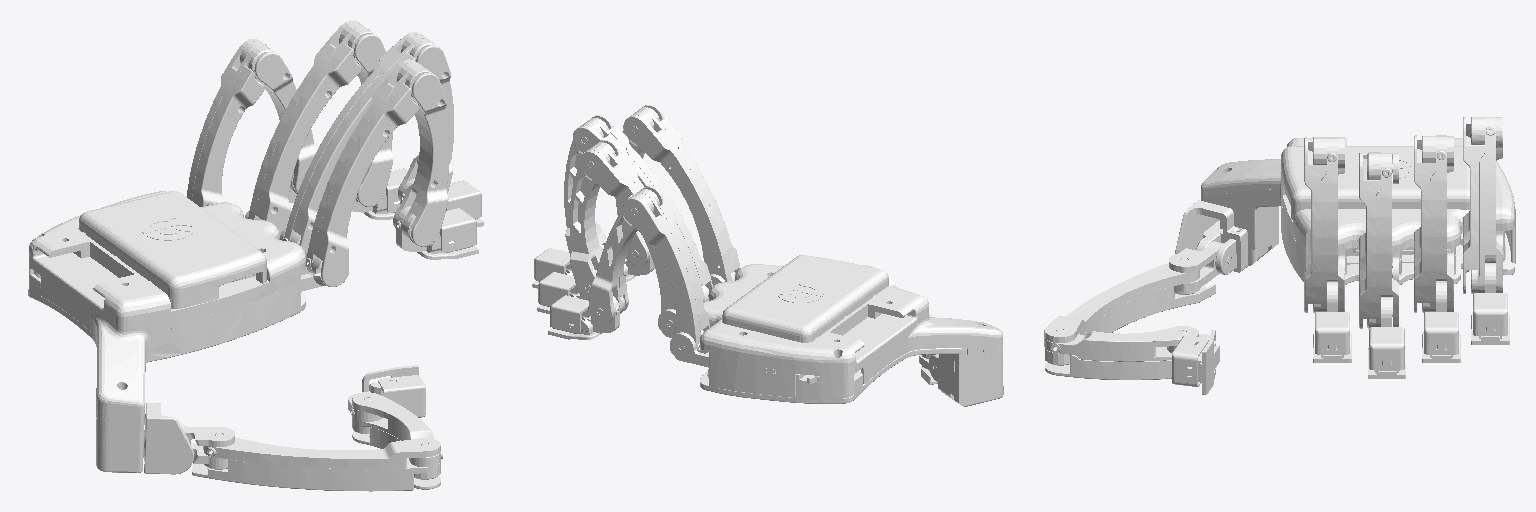
--- Render facts (derived) ---
The picture shows the robot from 3 angles, left to right: view 1: azimuth 30°, elevation 25°; view 2: azimuth 150°, elevation 25°; view 3: azimuth 270°, elevation 25°; orthographic projection.
Robot: DexGlove_L_v3 — 22 links, 21 joints (21 revolute); root link base_link; default pose: every joint at zero.
Links seen in each view (by area): view 1: base_link, glove_link_l_1_3, glove_link_l_2_2, glove_link_l_4_2, glove_link_l_2_3, glove_link_l_5_2, glove_link_l_3_2, glove_link_l_1_4, glove_link_l_1_1, glove_link_l_4_3, glove_link_l_5_3, glove_link_l_2_4 (+5 smaller); view 2: base_link, glove_link_l_2_2, glove_link_l_5_2, glove_link_l_4_3, glove_link_l_5_3, glove_link_l_4_2, glove_link_l_3_2, glove_link_l_5_4, glove_link_l_3_3, glove_link_l_4_4, glove_link_l_2_3, glove_link_l_3_4 (+1 smaller); view 3: base_link, glove_link_l_1_3, glove_link_l_1_4, glove_link_l_2_3, glove_link_l_4_3, glove_link_l_3_3, glove_link_l_5_3, glove_link_l_1_1, glove_link_l_1_5, glove_link_l_5_4, glove_link_l_3_4, glove_link_l_4_4 (+6 smaller).
Link boxes in pixels (x1,y1,x2,y2): base_link: (28, 191, 305, 472); glove_link_l_1_3: (192, 437, 440, 491); glove_link_l_2_2: (306, 59, 432, 286); glove_link_l_4_2: (248, 20, 374, 234); glove_link_l_2_3: (393, 62, 449, 246); glove_link_l_5_2: (187, 39, 274, 206); glove_link_l_3_2: (283, 32, 435, 251); glove_link_l_1_4: (352, 393, 442, 489); glove_link_l_1_1: (144, 403, 193, 474); glove_link_l_4_3: (339, 23, 392, 206); glove_link_l_5_3: (240, 41, 317, 193); glove_link_l_2_4: (396, 206, 478, 259); base_link: (700, 255, 1003, 406); glove_link_l_2_2: (623, 107, 739, 281); glove_link_l_5_2: (623, 189, 709, 351); glove_link_l_4_3: (569, 140, 618, 299); glove_link_l_5_3: (588, 186, 662, 323); glove_link_l_4_2: (579, 142, 675, 312); glove_link_l_3_2: (573, 118, 712, 301); glove_link_l_5_4: (548, 295, 619, 339); glove_link_l_3_3: (564, 115, 611, 256); glove_link_l_4_4: (537, 270, 596, 313); glove_link_l_2_3: (615, 105, 663, 265); glove_link_l_3_4: (532, 248, 573, 288); base_link: (1201, 138, 1515, 284); glove_link_l_1_3: (1044, 263, 1215, 365); glove_link_l_1_4: (1044, 326, 1198, 379); glove_link_l_2_3: (1304, 137, 1344, 312); glove_link_l_4_3: (1414, 135, 1453, 312); glove_link_l_3_3: (1359, 153, 1398, 328); glove_link_l_5_3: (1463, 117, 1502, 293); glove_link_l_1_1: (1175, 200, 1247, 274); glove_link_l_1_5: (1167, 330, 1219, 394); glove_link_l_5_4: (1471, 263, 1509, 344); glove_link_l_3_4: (1368, 297, 1405, 378); glove_link_l_4_4: (1422, 281, 1460, 362).
Size in the robot's own frame: 0.2157 by 0.1922 by 0.1312 metres.
Meshes: 22 distinct files referenced, 22 mesh visuals loaded (22 binary STL).

URDF robot description (DexGlove_L_v3):
<?xml version="1.0" encoding="utf-8"?>
<!-- This URDF was automatically created by SolidWorks to URDF Exporter! Originally created by Stephen Brawner ([email redacted]) 
     Commit Version: 1.6.0-4-g7f85cfe  Build Version: 1.6.7995.38578
     For more information, please see http://wiki.ros.org/sw_urdf_exporter -->
<robot
  name="DexGlove_L_v3">
  <link
    name="base_link">
    <inertial>
      <origin
        xyz="0.0237620477978091 -0.00951376753341219 -0.0171474899831816"
        rpy="0 0 0" />
      <mass
        value="0.0800024299347004" />
      <inertia
        ixx="8.60952255620185E-05"
        ixy="-2.71602100565745E-05"
        ixz="-8.77823585205834E-06"
        iyy="7.23334491491057E-05"
        iyz="-7.90469210781503E-06"
        izz="0.000150604089423066" />
    </inertial>
    <visual>
      <origin
        xyz="0 0 0"
        rpy="0 0 0" />
      <geometry>
        <mesh
          filename="package://DexGlove_L_v3/meshes/base_link.STL" />
      </geometry>
      <material
        name="">
        <color
          rgba="1 1 1 1" />
      </material>
    </visual>
    <collision>
      <origin
        xyz="0 0 0"
        rpy="0 0 0" />
      <geometry>
        <mesh
          filename="package://DexGlove_L_v3/meshes/base_link.STL" />
      </geometry>
    </collision>
  </link>
  <link
    name="glove_link_l_1_1">
    <inertial>
      <origin
        xyz="0.00215560142754495 -0.00338440417553472 -0.0131214276652581"
        rpy="0 0 0" />
      <mass
        value="0.00385817376294998" />
      <inertia
        ixx="2.65474228805464E-07"
        ixy="5.80436030551347E-09"
        ixz="-6.45383259850794E-09"
        iyy="2.67286944047061E-07"
        iyz="-3.27370896235781E-08"
        izz="2.83530805186649E-07" />
    </inertial>
    <visual>
      <origin
        xyz="0 0 0"
        rpy="0 0 0" />
      <geometry>
        <mesh
          filename="package://DexGlove_L_v3/meshes/glove_link_l_1_1.STL" />
      </geometry>
      <material
        name="">
        <color
          rgba="1 1 1 1" />
      </material>
    </visual>
    <collision>
      <origin
        xyz="0 0 0"
        rpy="0 0 0" />
      <geometry>
        <mesh
          filename="package://DexGlove_L_v3/meshes/glove_link_l_1_1.STL" />
      </geometry>
    </collision>
  </link>
  <joint
    name="glove_joint_l_1_1"
    type="revolute">
    <origin
      xyz="-0.020715 -0.061876 -0.050557"
      rpy="1.0492 -1.5085 -1.5708" />
    <parent
      link="base_link" />
    <child
      link="glove_link_l_1_1" />
    <axis
      xyz="0 0 -1" />
    <limit
      lower="-3.1416"
      upper="3.1416"
      effort="0"
      velocity="0" />
  </joint>
  <link
    name="glove_link_l_1_2">
    <inertial>
      <origin
        xyz="-0.000703204608406425 0.0127309615060602 -0.00288011874599131"
        rpy="0 0 0" />
      <mass
        value="0.00199934411755508" />
      <inertia
        ixx="1.41414956928775E-07"
        ixy="5.06018801001401E-09"
        ixz="-1.28468708917249E-09"
        iyy="5.78189712533849E-08"
        iyz="2.26574146128709E-08"
        izz="1.4664936590257E-07" />
    </inertial>
    <visual>
      <origin
        xyz="0 0 0"
        rpy="0 0 0" />
      <geometry>
        <mesh
          filename="package://DexGlove_L_v3/meshes/glove_link_l_1_2.STL" />
      </geometry>
      <material
        name="">
        <color
          rgba="1 1 1 1" />
      </material>
    </visual>
    <collision>
      <origin
        xyz="0 0 0"
        rpy="0 0 0" />
      <geometry>
        <mesh
          filename="package://DexGlove_L_v3/meshes/glove_link_l_1_2.STL" />
      </geometry>
    </collision>
  </link>
  <joint
    name="glove_joint_l_1_2"
    type="revolute">
    <origin
      xyz="0 0 -0.01925"
      rpy="-1.5708 -0.031013 0.054007" />
    <parent
      link="glove_link_l_1_1" />
    <child
      link="glove_link_l_1_2" />
    <axis
      xyz="0 0 1" />
    <limit
      lower="-3.1416"
      upper="3.1416"
      effort="0"
      velocity="0" />
  </joint>
  <link
    name="glove_link_l_1_3">
    <inertial>
      <origin
        xyz="-0.0300563092743552 0.0332984200920534 0.00327887867259335"
        rpy="0 0 0" />
      <mass
        value="0.00757179820464933" />
      <inertia
        ixx="3.77017392153615E-06"
        ixy="2.69631166215014E-06"
        ixz="-1.55552183083546E-08"
        iyy="2.22970205318033E-06"
        iyz="6.16317027380728E-09"
        izz="5.88485076738021E-06" />
    </inertial>
    <visual>
      <origin
        xyz="0 0 0"
        rpy="0 0 0" />
      <geometry>
        <mesh
          filename="package://DexGlove_L_v3/meshes/glove_link_l_1_3.STL" />
      </geometry>
      <material
        name="">
        <color
          rgba="1 1 1 1" />
      </material>
    </visual>
    <collision>
      <origin
        xyz="0 0 0"
        rpy="0 0 0" />
      <geometry>
        <mesh
          filename="package://DexGlove_L_v3/meshes/glove_link_l_1_3.STL" />
      </geometry>
    </collision>
  </link>
  <joint
    name="glove_joint_l_1_3"
    type="revolute">
    <origin
      xyz="0 0.0185 -0.0047"
      rpy="1.5708 -1.05 -1.5708" />
    <parent
      link="glove_link_l_1_2" />
    <child
      link="glove_link_l_1_3" />
    <axis
      xyz="0 0 -1" />
    <limit
      lower="-3.1416"
      upper="3.1416"
      effort="0"
      velocity="0" />
  </joint>
  <link
    name="glove_link_l_1_4">
    <inertial>
      <origin
        xyz="0.0273027545361775 0.00433284522060241 0.00241784252720834"
        rpy="0 0 0" />
      <mass
        value="0.00546088824696822" />
      <inertia
        ixx="1.23506944678846E-07"
        ixy="-1.2417028638521E-08"
        ixz="-2.00696983147469E-08"
        iyy="1.50198060851441E-06"
        iyz="7.83194829213286E-09"
        izz="1.53449411036234E-06" />
    </inertial>
    <visual>
      <origin
        xyz="0 0 0"
        rpy="0 0 0" />
      <geometry>
        <mesh
          filename="package://DexGlove_L_v3/meshes/glove_link_l_1_4.STL" />
      </geometry>
      <material
        name="">
        <color
          rgba="1 1 1 1" />
      </material>
    </visual>
    <collision>
      <origin
        xyz="0 0 0"
        rpy="0 0 0" />
      <geometry>
        <mesh
          filename="package://DexGlove_L_v3/meshes/glove_link_l_1_4.STL" />
      </geometry>
    </collision>
  </link>
  <joint
    name="glove_joint_l_1_4"
    type="revolute">
    <origin
      xyz="-0.050645 0.068265 0"
      rpy="0 0 0" />
    <parent
      link="glove_link_l_1_3" />
    <child
      link="glove_link_l_1_4" />
    <axis
      xyz="0 0 -1" />
    <limit
      lower="-3.1416"
      upper="3.1416"
      effort="0"
      velocity="0" />
  </joint>
  <link
    name="glove_link_l_1_5">
    <inertial>
      <origin
        xyz="0.00576308530627474 0.014171599806828 -1.24808354057954E-07"
        rpy="0 0 0" />
      <mass
        value="0.00340265417208615" />
      <inertia
        ixx="2.7868121651168E-07"
        ixy="-4.89947732564642E-09"
        ixz="2.07336733183153E-12"
        iyy="1.06533376436027E-07"
        iyz="3.5068186754249E-12"
        izz="2.61407891931897E-07" />
    </inertial>
    <visual>
      <origin
        xyz="0 0 0"
        rpy="0 0 0" />
      <geometry>
        <mesh
          filename="package://DexGlove_L_v3/meshes/glove_link_l_1_5.STL" />
      </geometry>
      <material
        name="">
        <color
          rgba="1 1 1 1" />
      </material>
    </visual>
    <collision>
      <origin
        xyz="0 0 0"
        rpy="0 0 0" />
      <geometry>
        <mesh
          filename="package://DexGlove_L_v3/meshes/glove_link_l_1_5.STL" />
      </geometry>
    </collision>
  </link>
  <joint
    name="glove_joint_l_1_5"
    type="revolute">
    <origin
      xyz="0.049966 0.0018328 0"
      rpy="0 0 0" />
    <parent
      link="glove_link_l_1_4" />
    <child
      link="glove_link_l_1_5" />
    <axis
      xyz="0 0 -1" />
    <limit
      lower="-3.1416"
      upper="3.1416"
      effort="0"
      velocity="0" />
  </joint>
  <link
    name="glove_link_l_2_1">
    <inertial>
      <origin
        xyz="-0.00074707906277232 0.012961159253253 -0.00251564874753502"
        rpy="0 0 0" />
      <mass
        value="0.00185408842429835" />
      <inertia
        ixx="1.38265146008516E-07"
        ixy="5.67634614991445E-09"
        ixz="-9.85773115368726E-10"
        iyy="5.23525642639644E-08"
        iyz="2.30715567932656E-08"
        izz="1.44653112488611E-07" />
    </inertial>
    <visual>
      <origin
        xyz="0 0 0"
        rpy="0 0 0" />
      <geometry>
        <mesh
          filename="package://DexGlove_L_v3/meshes/glove_link_l_2_1.STL" />
      </geometry>
      <material
        name="">
        <color
          rgba="1 1 1 1" />
      </material>
    </visual>
    <collision>
      <origin
        xyz="0 0 0"
        rpy="0 0 0" />
      <geometry>
        <mesh
          filename="package://DexGlove_L_v3/meshes/glove_link_l_2_1.STL" />
      </geometry>
    </collision>
  </link>
  <joint
    name="glove_joint_l_2_1"
    type="revolute">
    <origin
      xyz="0.074852 -0.024382 -0.017"
      rpy="3.1416 0 1.5708" />
    <parent
      link="base_link" />
    <child
      link="glove_link_l_2_1" />
    <axis
      xyz="0 0 1" />
    <limit
      lower="-3.1416"
      upper="3.1416"
      effort="0"
      velocity="0" />
  </joint>
  <link
    name="glove_link_l_2_2">
    <inertial>
      <origin
        xyz="-0.0432046013983184 0.0188212055356098 0.00192904185041391"
        rpy="0 0 0" />
      <mass
        value="0.0068903922112141" />
      <inertia
        ixx="1.55217397079913E-06"
        ixy="2.28439863247048E-06"
        ixz="-2.02439178575775E-09"
        iyy="4.03823340950365E-06"
        iyz="-1.20328778786981E-08"
        izz="5.50211235346778E-06" />
    </inertial>
    <visual>
      <origin
        xyz="0 0 0"
        rpy="0 0 0" />
      <geometry>
        <mesh
          filename="package://DexGlove_L_v3/meshes/glove_link_l_2_2.STL" />
      </geometry>
      <material
        name="">
        <color
          rgba="1 1 1 1" />
      </material>
    </visual>
    <collision>
      <origin
        xyz="0 0 0"
        rpy="0 0 0" />
      <geometry>
        <mesh
          filename="package://DexGlove_L_v3/meshes/glove_link_l_2_2.STL" />
      </geometry>
    </collision>
  </link>
  <joint
    name="glove_joint_l_2_2"
    type="revolute">
    <origin
      xyz="0 0.0185 -0.0047"
      rpy="0 -1.5708 0" />
    <parent
      link="glove_link_l_2_1" />
    <child
      link="glove_link_l_2_2" />
    <axis
      xyz="0 0 -1" />
    <limit
      lower="-3.1416"
      upper="3.1416"
      effort="0"
      velocity="0" />
  </joint>
  <link
    name="glove_link_l_2_3">
    <inertial>
      <origin
        xyz="0.0373474347253247 0.00422079684784249 0.00270019769934442"
        rpy="0 0 0" />
      <mass
        value="0.00556507337520378" />
      <inertia
        ixx="1.54081930098524E-07"
        ixy="6.31575605463809E-08"
        ixz="-2.8104302514807E-09"
        iyy="2.78390324838341E-06"
        iyz="2.29428229032608E-09"
        izz="2.85885256833783E-06" />
    </inertial>
    <visual>
      <origin
        xyz="0 0 0"
        rpy="0 0 0" />
      <geometry>
        <mesh
          filename="package://DexGlove_L_v3/meshes/glove_link_l_2_3.STL" />
      </geometry>
      <material
        name="">
        <color
          rgba="1 1 1 1" />
      </material>
    </visual>
    <collision>
      <origin
        xyz="0 0 0"
        rpy="0 0 0" />
      <geometry>
        <mesh
          filename="package://DexGlove_L_v3/meshes/glove_link_l_2_3.STL" />
      </geometry>
    </collision>
  </link>
  <joint
    name="glove_joint_l_2_3"
    type="revolute">
    <origin
      xyz="-0.073326 0.042996 0.0001"
      rpy="0 0 0" />
    <parent
      link="glove_link_l_2_2" />
    <child
      link="glove_link_l_2_3" />
    <axis
      xyz="0 0 -1" />
    <limit
      lower="-3.1416"
      upper="3.1416"
      effort="0"
      velocity="0" />
  </joint>
  <link
    name="glove_link_l_2_4">
    <inertial>
      <origin
        xyz="0.00925770578391135 0.013031093961817 -5.34973035697106E-08"
        rpy="0 0 0" />
      <mass
        value="0.00329763544951626" />
      <inertia
        ixx="2.60951577192895E-07"
        ixy="-5.29727231542044E-08"
        ixz="3.0279199227319E-12"
        iyy="1.09845605219125E-07"
        iyz="5.275988438918E-12"
        izz="2.70313394997096E-07" />
    </inertial>
    <visual>
      <origin
        xyz="0 0 0"
        rpy="0 0 0" />
      <geometry>
        <mesh
          filename="package://DexGlove_L_v3/meshes/glove_link_l_2_4.STL" />
      </geometry>
      <material
        name="">
        <color
          rgba="1 1 1 1" />
      </material>
    </visual>
    <collision>
      <origin
        xyz="0 0 0"
        rpy="0 0 0" />
      <geometry>
        <mesh
          filename="package://DexGlove_L_v3/meshes/glove_link_l_2_4.STL" />
      </geometry>
    </collision>
  </link>
  <joint
    name="glove_joint_l_2_4"
    type="revolute">
    <origin
      xyz="0.064976 -0.00029093 -0.0001"
      rpy="0 0 0" />
    <parent
      link="glove_link_l_2_3" />
    <child
      link="glove_link_l_2_4" />
    <axis
      xyz="0 0 -1" />
    <limit
      lower="-3.1416"
      upper="3.1416"
      effort="0"
      velocity="0" />
  </joint>
  <link
    name="glove_link_l_3_1">
    <inertial>
      <origin
        xyz="-0.000747078840296815 0.0129546180965885 -0.00252357247771677"
        rpy="0 0 0" />
      <mass
        value="0.00185408842429837" />
      <inertia
        ixx="1.38265146203388E-07"
        ixy="5.67367844221647E-09"
        ixz="-9.89002493892456E-10"
        iyy="5.2298351932042E-08"
        iyz="2.30610980289715E-08"
        izz="1.44707324625665E-07" />
    </inertial>
    <visual>
      <origin
        xyz="0 0 0"
        rpy="0 0 0" />
      <geometry>
        <mesh
          filename="package://DexGlove_L_v3/meshes/glove_link_l_3_1.STL" />
      </geometry>
      <material
        name="">
        <color
          rgba="1 1 1 1" />
      </material>
    </visual>
    <collision>
      <origin
        xyz="0 0 0"
        rpy="0 0 0" />
      <geometry>
        <mesh
          filename="package://DexGlove_L_v3/meshes/glove_link_l_3_1.STL" />
      </geometry>
    </collision>
  </link>
  <joint
    name="glove_joint_l_3_1"
    type="revolute">
    <origin
      xyz="0.076856 -0.0021271 -0.01675"
      rpy="3.1416 0 1.5708" />
    <parent
      link="base_link" />
    <child
      link="glove_link_l_3_1" />
    <axis
      xyz="0 0 1" />
    <limit
      lower="-3.1416"
      upper="3.1416"
      effort="0"
      velocity="0" />
  </joint>
  <link
    name="glove_link_l_3_2">
    <inertial>
      <origin
        xyz="-0.0437501124826072 0.0254656268701975 0.00193326740120344"
        rpy="0 0 0" />
      <mass
        value="0.0071496843467967" />
      <inertia
        ixx="2.64000494609103E-06"
        ixy="3.10778126832265E-06"
        ixz="-8.35993249472875E-09"
        iyy="4.22336318311668E-06"
        iyz="-1.0016269102581E-08"
        izz="6.77650104823507E-06" />
    </inertial>
    <visual>
      <origin
        xyz="0 0 0"
        rpy="0 0 0" />
      <geometry>
        <mesh
          filename="package://DexGlove_L_v3/meshes/glove_link_l_3_2.STL" />
      </geometry>
      <material
        name="">
        <color
          rgba="1 1 1 1" />
      </material>
    </visual>
    <collision>
      <origin
        xyz="0 0 0"
        rpy="0 0 0" />
      <geometry>
        <mesh
          filename="package://DexGlove_L_v3/meshes/glove_link_l_3_2.STL" />
      </geometry>
    </collision>
  </link>
  <joint
    name="glove_joint_l_3_2"
    type="revolute">
    <origin
      xyz="0 0.0185 -0.0047"
      rpy="0 -1.5708 0" />
    <parent
      link="glove_link_l_3_1" />
    <child
      link="glove_link_l_3_2" />
    <axis
      xyz="0 0 -1" />
    <limit
      lower="-3.1416"
      upper="3.1416"
      effort="0"
      velocity="0" />
  </joint>
  <link
    name="glove_link_l_3_3">
    <inertial>
      <origin
        xyz="0.0373342057930102 0.00433582366792043 0.00270659893943644"
        rpy="0 0 0" />
      <mass
        value="0.00556507325680944" />
      <inertia
        ixx="1.5371064986046E-07"
        ixy="5.51237761207029E-08"
        ixz="-2.81535762485774E-09"
        iyy="2.78427446468606E-06"
        iyz="2.28723741921278E-09"
        izz="2.85885250610844E-06" />
    </inertial>
    <visual>
      <origin
        xyz="0 0 0"
        rpy="0 0 0" />
      <geometry>
        <mesh
          filename="package://DexGlove_L_v3/meshes/glove_link_l_3_3.STL" />
      </geometry>
      <material
        name="">
        <color
          rgba="1 1 1 1" />
      </material>
    </visual>
    <collision>
      <origin
        xyz="0 0 0"
        rpy="0 0 0" />
      <geometry>
        <mesh
          filename="package://DexGlove_L_v3/meshes/glove_link_l_3_3.STL" />
      </geometry>
    </collision>
  </link>
  <joint
    name="glove_joint_l_3_3"
    type="revolute">
    <origin
      xyz="-0.073077 0.055905 0"
      rpy="0 0 0" />
    <parent
      link="glove_link_l_3_2" />
    <child
      link="glove_link_l_3_3" />
    <axis
      xyz="0 0 -1" />
    <limit
      lower="-3.1416"
      upper="3.1416"
      effort="0"
      velocity="0" />
  </joint>
  <link
    name="glove_link_l_3_4">
    <inertial>
      <origin
        xyz="0.00925770578391089 0.0130310939352788 -5.36510005473816E-08"
        rpy="0 0 0" />
      <mass
        value="0.00329763544951589" />
      <inertia
        ixx="2.60951577192856E-07"
        ixy="-5.29727231541635E-08"
        ixz="3.02854471916274E-12"
        iyy="1.09845605219242E-07"
        iyz="5.27788112034506E-12"
        izz="2.70313394996938E-07" />
    </inertial>
    <visual>
      <origin
        xyz="0 0 0"
        rpy="0 0 0" />
      <geometry>
        <mesh
          filename="package://DexGlove_L_v3/meshes/glove_link_l_3_4.STL" />
      </geometry>
      <material
        name="">
        <color
          rgba="1 1 1 1" />
      </material>
    </visual>
    <collision>
      <origin
        xyz="0 0 0"
        rpy="0 0 0" />
      <geometry>
        <mesh
          filename="package://DexGlove_L_v3/meshes/glove_link_l_3_4.STL" />
      </geometry>
    </collision>
  </link>
  <joint
    name="glove_joint_l_3_4"
    type="revolute">
    <origin
      xyz="0.064977 -8.5765E-05 0"
      rpy="0 0 0" />
    <parent
      link="glove_link_l_3_3" />
    <child
      link="glove_link_l_3_4" />
    <axis
      xyz="0 0 -1" />
    <limit
      lower="-3.1416"
      upper="3.1416"
      effort="0"
      velocity="0" />
  </joint>
  <link
    name="glove_link_l_4_1">
    <inertial>
      <origin
        xyz="-0.000747078993101623 0.0129577992068581 -0.00250603431710536"
        rpy="0 0 0" />
      <mass
        value="0.00185408842429835" />
      <inertia
        ixx="1.3826514606954E-07"
        ixy="5.67497610547909E-09"
        ixz="-9.81854074102805E-10"
        iyy="5.23183799984892E-08"
        iyz="2.31144907027588E-08"
        izz="1.44687296693062E-07" />
    </inertial>
    <visual>
      <origin
        xyz="0 0 0"
        rpy="0 0 0" />
      <geometry>
        <mesh
          filename="package://DexGlove_L_v3/meshes/glove_link_l_4_1.STL" />
      </geometry>
      <material
        name="">
        <color
          rgba="1 1 1 1" />
      </material>
    </visual>
    <collision>
      <origin
        xyz="0 0 0"
        rpy="0 0 0" />
      <geometry>
        <mesh
          filename="package://DexGlove_L_v3/meshes/glove_link_l_4_1.STL" />
      </geometry>
    </collision>
  </link>
  <joint
    name="glove_joint_l_4_1"
    type="revolute">
    <origin
      xyz="0.072856 0.020125 -0.01675"
      rpy="3.1416 0 1.5708" />
    <parent
      link="base_link" />
    <child
      link="glove_link_l_4_1" />
    <axis
      xyz="0 0 1" />
    <limit
      lower="-3.1416"
      upper="3.1416"
      effort="0"
      velocity="0" />
  </joint>
  <link
    name="glove_link_l_4_2">
    <inertial>
      <origin
        xyz="-0.0430882899040309 0.0190905523140696 0.00192904188467153"
        rpy="0 0 0" />
      <mass
        value="0.0068903922604672" />
      <inertia
        ixx="1.5804325678311E-06"
        ixy="2.2995843678296E-06"
        ixz="-2.09728895254043E-09"
        iyy="4.00997485860125E-06"
        iyz="-1.20162028673521E-08"
        izz="5.50211239948494E-06" />
    </inertial>
    <visual>
      <origin
        xyz="0 0 0"
        rpy="0 0 0" />
      <geometry>
        <mesh
          filename="package://DexGlove_L_v3/meshes/glove_link_l_4_2.STL" />
      </geometry>
      <material
        name="">
        <color
          rgba="1 1 1 1" />
      </material>
    </visual>
    <collision>
      <origin
        xyz="0 0 0"
        rpy="0 0 0" />
      <geometry>
        <mesh
          filename="package://DexGlove_L_v3/meshes/glove_link_l_4_2.STL" />
      </geometry>
    </collision>
  </link>
  <joint
    name="glove_joint_l_4_2"
    type="revolute">
    <origin
      xyz="0 0.0185 -0.0047"
      rpy="0 -1.5708 0" />
    <parent
      link="glove_link_l_4_1" />
    <child
      link="glove_link_l_4_2" />
    <axis
      xyz="0 0 -1" />
    <limit
      lower="-3.1416"
      upper="3.1416"
      effort="0"
      velocity="0" />
  </joint>
  <link
    name="glove_link_l_4_3">
    <inertial>
      <origin
        xyz="0.0372362697275715 0.00510868025075294 0.00270446449822483"
        rpy="0 0 0" />
      <mass
        value="0.00556507377157851" />
      <inertia
        ixx="1.52558984663054E-07"
        ixy="5.42590052565102E-10"
        ixz="-2.86280092212301E-09"
        iyy="2.78542635260807E-06"
        iyz="2.22776578805536E-09"
        izz="2.85885271652033E-06" />
    </inertial>
    <visual>
      <origin
        xyz="0 0 0"
        rpy="0 0 0" />
      <geometry>
        <mesh
          filename="package://DexGlove_L_v3/meshes/glove_link_l_4_3.STL" />
      </geometry>
      <material
        name="">
        <color
          rgba="1 1 1 1" />
      </material>
    </visual>
    <collision>
      <origin
        xyz="0 0 0"
        rpy="0 0 0" />
      <geometry>
        <mesh
          filename="package://DexGlove_L_v3/meshes/glove_link_l_4_3.STL" />
      </geometry>
    </collision>
  </link>
  <joint
    name="glove_joint_l_4_3"
    type="revolute">
    <origin
      xyz="-0.073065 0.043442 0"
      rpy="0 0 0" />
    <parent
      link="glove_link_l_4_2" />
    <child
      link="glove_link_l_4_3" />
    <axis
      xyz="0 0 -1" />
    <limit
      lower="-3.1416"
      upper="3.1416"
      effort="0"
      velocity="0" />
  </joint>
  <link
    name="glove_link_l_4_4">
    <inertial>
      <origin
        xyz="0.00925770578391121 0.0130310939618166 -5.34973034621578E-08"
        rpy="0 0 0" />
      <mass
        value="0.00329763544951627" />
      <inertia
        ixx="2.60951577192896E-07"
        ixy="-5.29727231542042E-08"
        ixz="3.02791992272296E-12"
        iyy="1.09845605219125E-07"
        iyz="5.27598843915435E-12"
        izz="2.70313394997097E-07" />
    </inertial>
    <visual>
      <origin
        xyz="0 0 0"
        rpy="0 0 0" />
      <geometry>
        <mesh
          filename="package://DexGlove_L_v3/meshes/glove_link_l_4_4.STL" />
      </geometry>
      <material
        name="">
        <color
          rgba="1 1 1 1" />
      </material>
    </visual>
    <collision>
      <origin
        xyz="0 0 0"
        rpy="0 0 0" />
      <geometry>
        <mesh
          filename="package://DexGlove_L_v3/meshes/glove_link_l_4_4.STL" />
      </geometry>
    </collision>
  </link>
  <joint
    name="glove_joint_l_4_4"
    type="revolute">
    <origin
      xyz="0.064965 0.0012591 0"
      rpy="0 0 0" />
    <parent
      link="glove_link_l_4_3" />
    <child
      link="glove_link_l_4_4" />
    <axis
      xyz="0 0 -1" />
    <limit
      lower="-3.1416"
      upper="3.1416"
      effort="0"
      velocity="0" />
  </joint>
  <link
    name="glove_link_l_5_1">
    <inertial>
      <origin
        xyz="-0.000747078954178006 0.0129542339843109 -0.00250396981201667"
        rpy="0 0 0" />
      <mass
        value="0.00185408842429835" />
      <inertia
        ixx="1.38265146103634E-07"
        ixy="5.6735226337136E-09"
        ixz="-9.81012496131226E-10"
        iyy="5.22967455932434E-08"
        iyz="2.31020742242029E-08"
        izz="1.44708931064214E-07" />
    </inertial>
    <visual>
      <origin
        xyz="0 0 0"
        rpy="0 0 0" />
      <geometry>
        <mesh
          filename="package://DexGlove_L_v3/meshes/glove_link_l_5_1.STL" />
      </geometry>
      <material
        name="">
        <color
          rgba="1 1 1 1" />
      </material>
    </visual>
    <collision>
      <origin
        xyz="0 0 0"
        rpy="0 0 0" />
      <geometry>
        <mesh
          filename="package://DexGlove_L_v3/meshes/glove_link_l_5_1.STL" />
      </geometry>
    </collision>
  </link>
  <joint
    name="glove_joint_l_5_1"
    type="revolute">
    <origin
      xyz="0.054856 0.040125 -0.01675"
      rpy="-3.1416 0 1.5708" />
    <parent
      link="base_link" />
    <child
      link="glove_link_l_5_1" />
    <axis
      xyz="0 0 1" />
    <limit
      lower="-3.1416"
      upper="3.1416"
      effort="0"
      velocity="0" />
  </joint>
  <link
    name="glove_link_l_5_2">
    <inertial>
      <origin
        xyz="-0.0377511578271588 0.0103116211726412 0.00190290206976192"
        rpy="0 0 0" />
      <mass
        value="0.00576778339098753" />
      <inertia
        ixx="5.60351175996028E-07"
        ixy="1.03378627042054E-06"
        ixz="1.85224331882328E-09"
        iyy="2.6996453140598E-06"
        iyz="-1.01214859658604E-08"
        izz="3.18124981108029E-06" />
    </inertial>
    <visual>
      <origin
        xyz="0 0 0"
        rpy="0 0 0" />
      <geometry>
        <mesh
          filename="package://DexGlove_L_v3/meshes/glove_link_l_5_2.STL" />
      </geometry>
      <material
        name="">
        <color
          rgba="1 1 1 1" />
      </material>
    </visual>
    <collision>
      <origin
        xyz="0 0 0"
        rpy="0 0 0" />
      <geometry>
        <mesh
          filename="package://DexGlove_L_v3/meshes/glove_link_l_5_2.STL" />
      </geometry>
    </collision>
  </link>
  <joint
    name="glove_joint_l_5_2"
    type="revolute">
    <origin
      xyz="0 0.0185 -0.0047"
      rpy="0 -1.5708 0" />
    <parent
      link="glove_link_l_5_1" />
    <child
      link="glove_link_l_5_2" />
    <axis
      xyz="0 0 -1" />
    <limit
      lower="-3.1416"
      upper="3.1416"
      effort="0"
      velocity="0" />
  </joint>
  <link
    name="glove_link_l_5_3">
    <inertial>
      <origin
        xyz="0.0319613063643107 0.0136906699135824 0.00266738763489565"
        rpy="0 0 0" />
      <mass
        value="0.00511704540818068" />
      <inertia
        ixx="2.98887873245392E-07"
        ixy="-5.94487242216796E-07"
        ixz="-6.96632445507416E-09"
        iyy="2.00647361251658E-06"
        iyz="-3.90094664804683E-10"
        izz="2.23244586171929E-06" />
    </inertial>
    <visual>
      <origin
        xyz="0 0 0"
        rpy="0 0 0" />
      <geometry>
        <mesh
          filename="package://DexGlove_L_v3/meshes/glove_link_l_5_3.STL" />
      </geometry>
      <material
        name="">
        <color
          rgba="1 1 1 1" />
      </material>
    </visual>
    <collision>
      <origin
        xyz="0 0 0"
        rpy="0 0 0" />
      <geometry>
        <mesh
          filename="package://DexGlove_L_v3/meshes/glove_link_l_5_3.STL" />
      </geometry>
    </collision>
  </link>
  <joint
    name="glove_joint_l_5_3"
    type="revolute">
    <origin
      xyz="-0.065037 0.025888 0"
      rpy="0 0 0" />
    <parent
      link="glove_link_l_5_2" />
    <child
      link="glove_link_l_5_3" />
    <axis
      xyz="0 0 -1" />
    <limit
      lower="-3.1416"
      upper="3.1416"
      effort="0"
      velocity="0" />
  </joint>
  <link
    name="glove_link_l_5_4">
    <inertial>
      <origin
        xyz="0.00925770578396984 0.0130310939550164 -5.3536446789626E-08"
        rpy="0 0 0" />
      <mass
        value="0.00329763544951616" />
      <inertia
        ixx="2.60951577192409E-07"
        ixy="-5.29727231548738E-08"
        ixz="3.02807904616673E-12"
        iyy="1.09845605219631E-07"
        iyz="5.27647046786407E-12"
        izz="2.70313394997056E-07" />
    </inertial>
    <visual>
      <origin
        xyz="0 0 0"
        rpy="0 0 0" />
      <geometry>
        <mesh
          filename="package://DexGlove_L_v3/meshes/glove_link_l_5_4.STL" />
      </geometry>
      <material
        name="">
        <color
          rgba="1 1 1 1" />
      </material>
    </visual>
    <collision>
      <origin
        xyz="0 0 0"
        rpy="0 0 0" />
      <geometry>
        <mesh
          filename="package://DexGlove_L_v3/meshes/glove_link_l_5_4.STL" />
      </geometry>
    </collision>
  </link>
  <joint
    name="glove_joint_l_5_4"
    type="revolute">
    <origin
      xyz="0.056937 0.018926 0"
      rpy="0 0 0" />
    <parent
      link="glove_link_l_5_3" />
    <child
      link="glove_link_l_5_4" />
    <axis
      xyz="0 0 -1" />
    <limit
      lower="-3.1416"
      upper="3.1416"
      effort="0"
      velocity="0" />
  </joint>
</robot>
